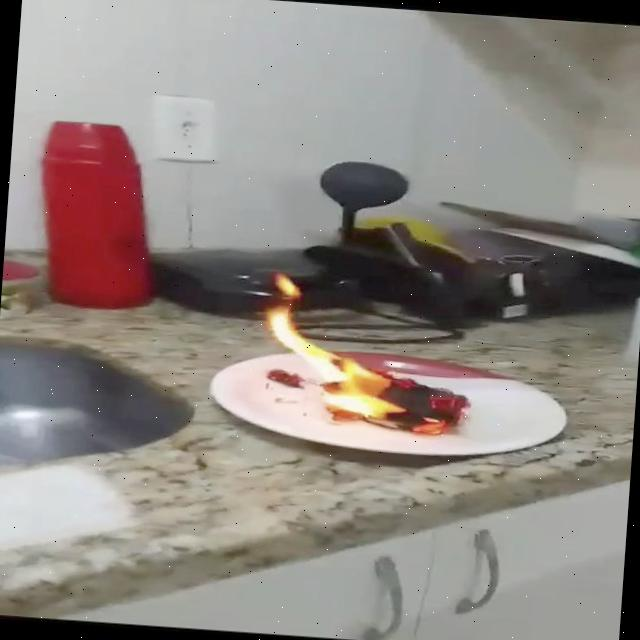fire: (253, 270, 481, 442)
